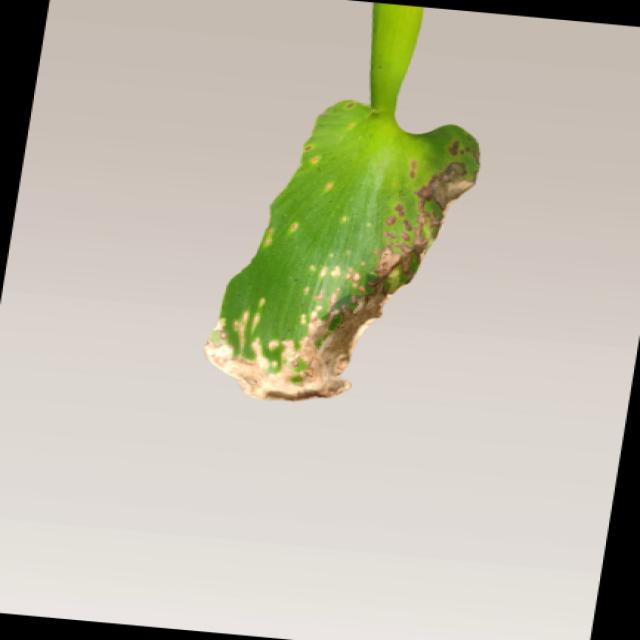daun berpenyakit bercak: (205, 4, 478, 401)
